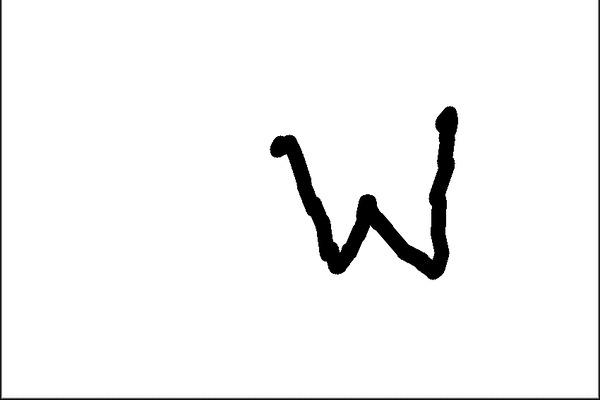w: (255, 84, 471, 294)
